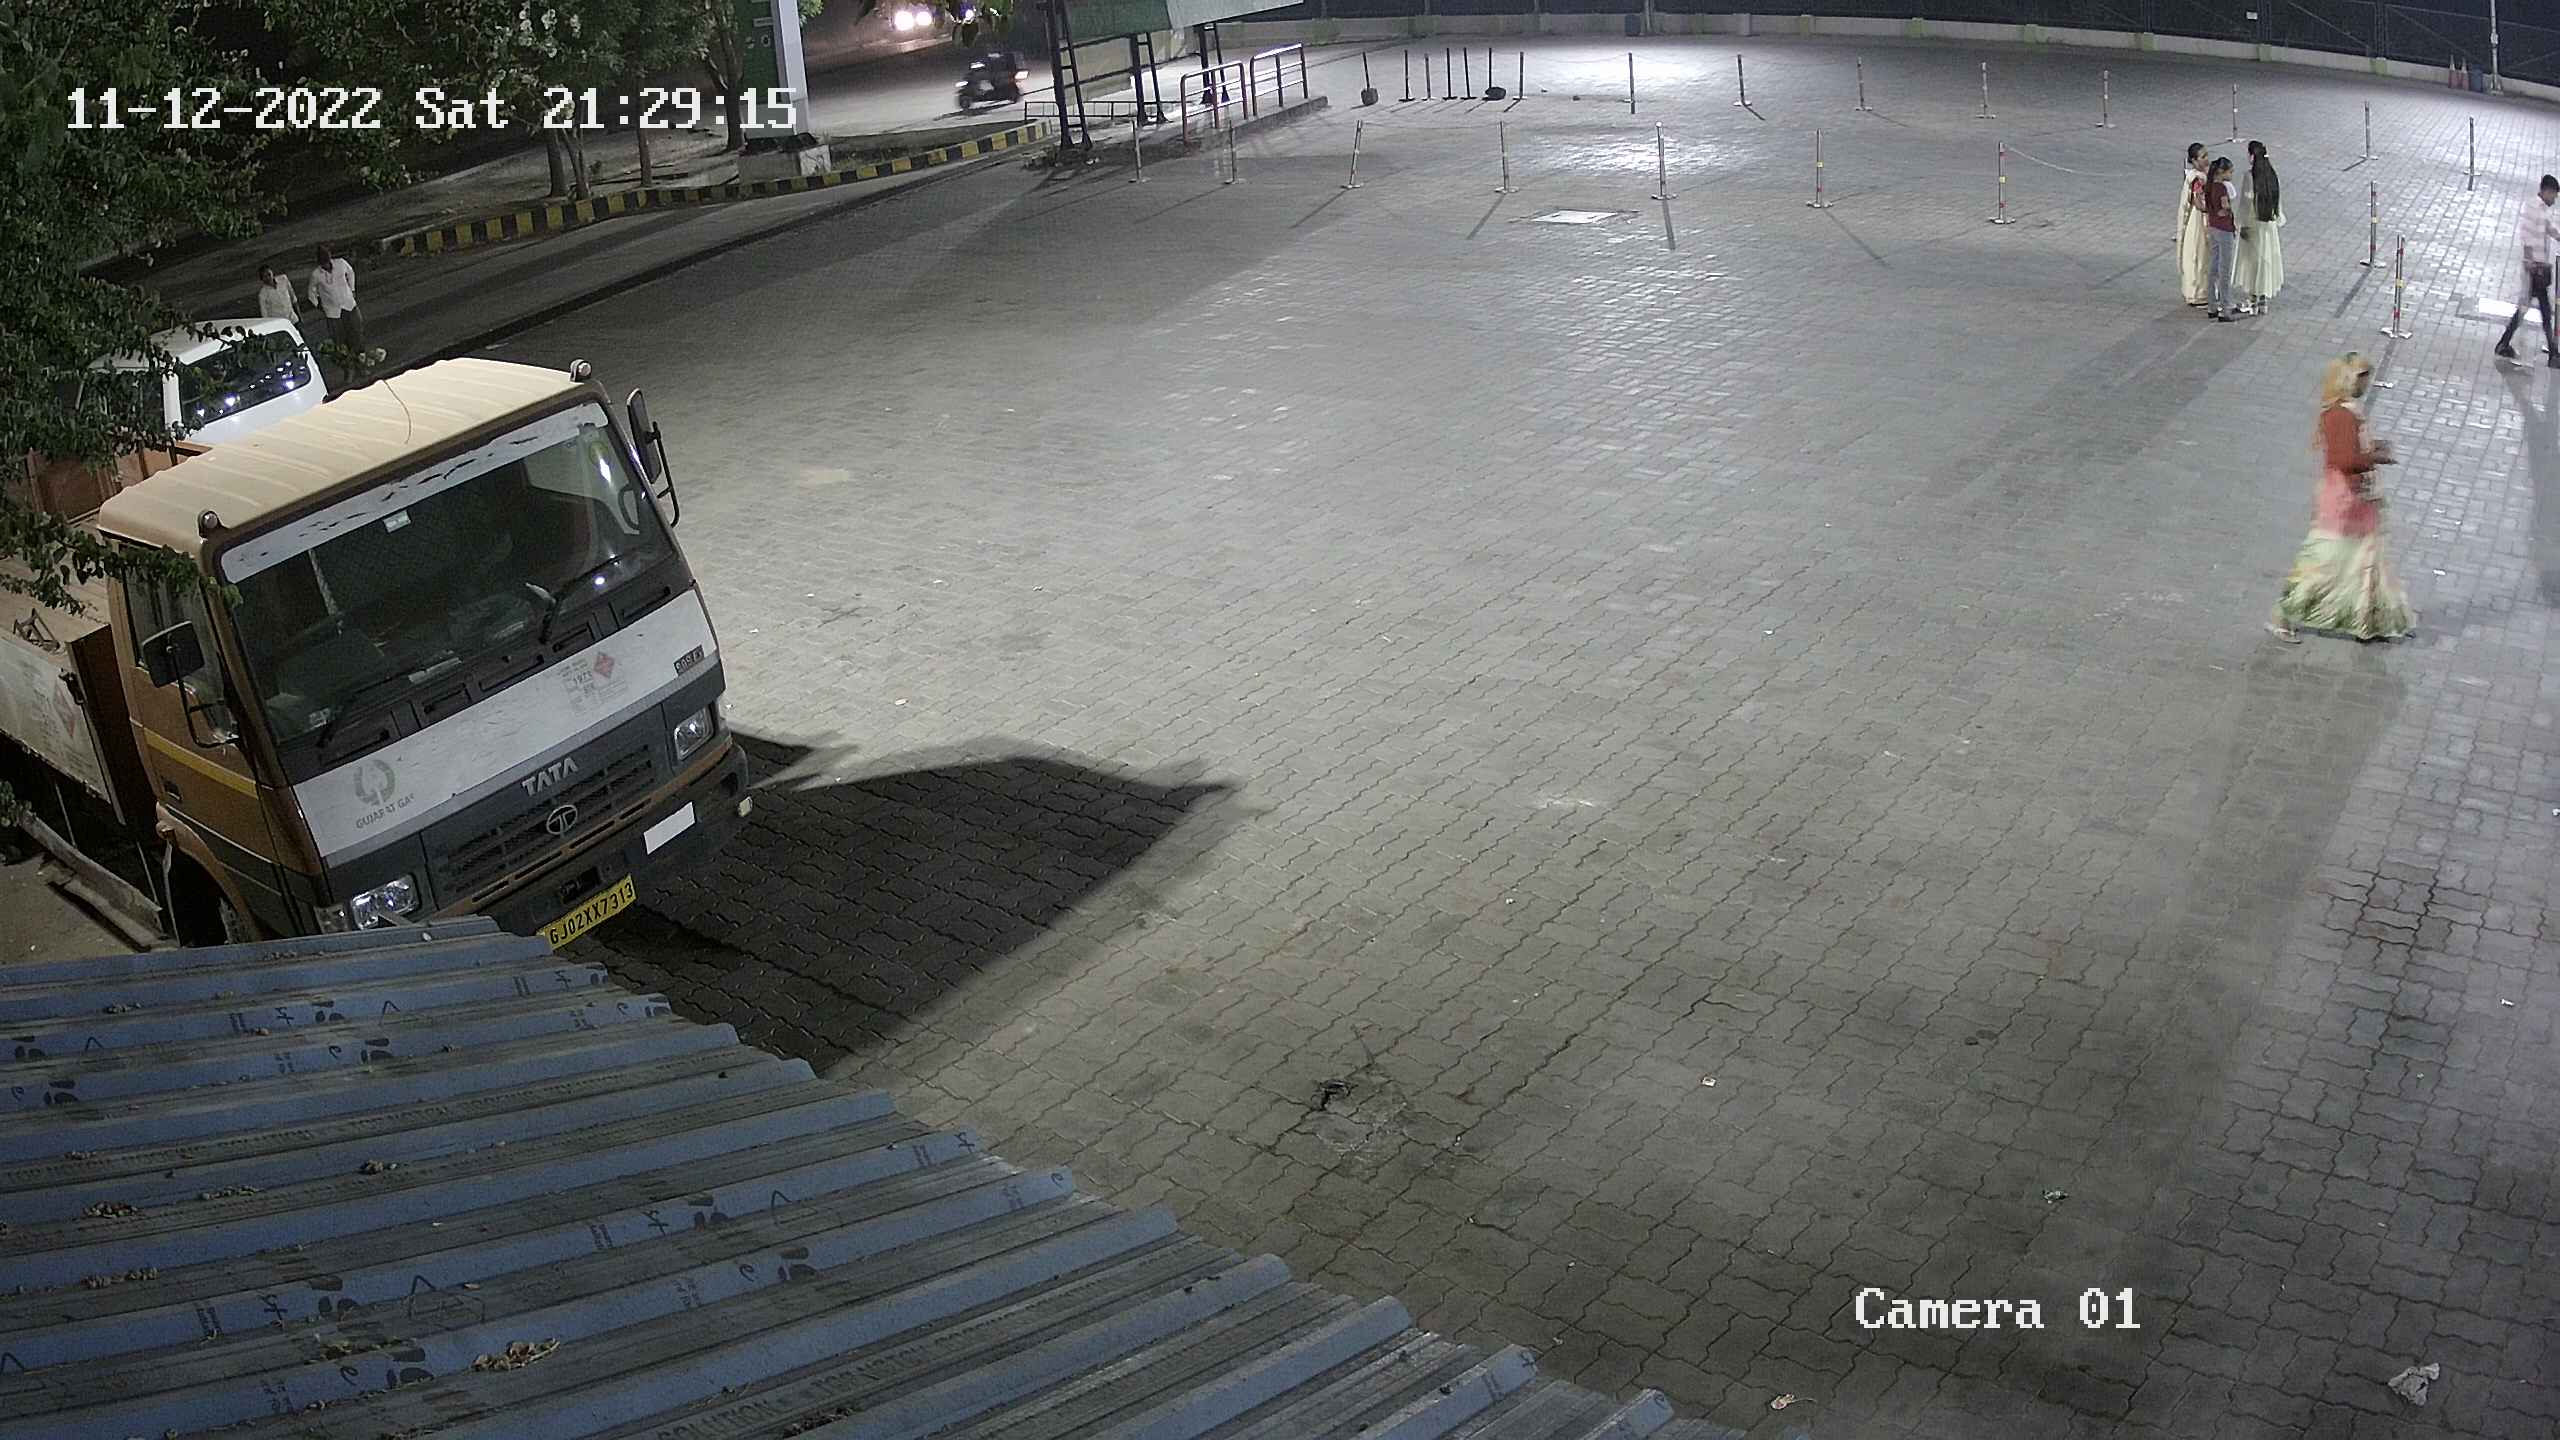Bike: (934, 32, 1037, 120)
Car: (30, 302, 348, 461)
HMV: (2, 346, 768, 969)
